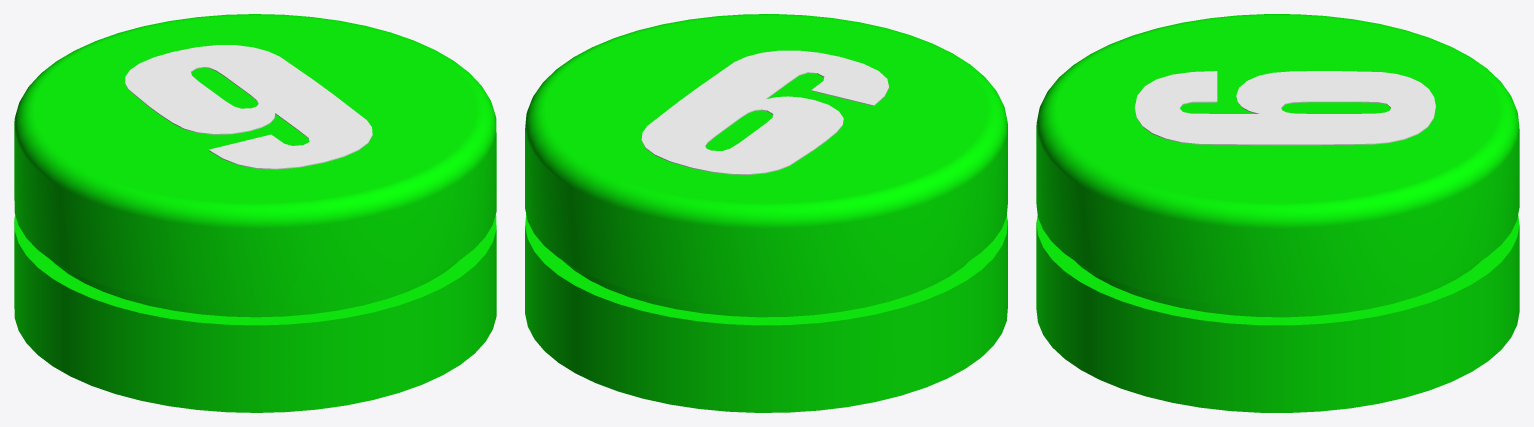
File: nubot_frame9_green.dae
The picture shows the model from 3 angles, left to right: view 1: azimuth 30°, elevation 25°; view 2: azimuth 150°, elevation 25°; view 3: azimuth 270°, elevation 25°; orthographic projection.
Parts seen in each view (by area): view 1: SketchUp (×3), instance_0; view 2: SketchUp (×3), instance_0; view 3: SketchUp (×3), instance_0.
Part boxes in pixels (x1=…): SketchUp (×3): x1=14, y1=14, x2=496, y2=412; instance_0: x1=125, y1=45, x2=372, y2=169; SketchUp (×3): x1=525, y1=14, x2=1007, y2=412; instance_0: x1=641, y1=50, x2=889, y2=174; SketchUp (×3): x1=1036, y1=14, x2=1519, y2=412; instance_0: x1=1134, y1=71, x2=1435, y2=145.
Bounding box in the file's own units: 19.66 × 19.68 × 9.09.
